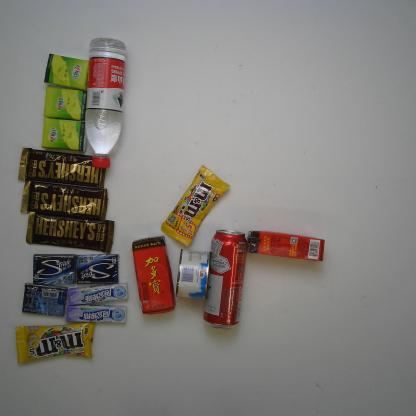Alcohol: (203, 228, 247, 329)
Candy: (67, 282, 129, 306), (66, 304, 127, 323)
Canned Food: (176, 249, 210, 300)
Chocolate: (159, 164, 231, 248), (26, 211, 115, 254), (17, 147, 108, 189), (20, 180, 108, 222), (15, 322, 96, 364)
Drink: (84, 36, 126, 170), (131, 235, 176, 315), (247, 230, 325, 262)
Gum: (22, 282, 68, 317), (33, 254, 76, 285), (75, 254, 119, 284)
Tissue: (44, 53, 92, 92), (42, 83, 88, 120), (41, 117, 87, 152)
